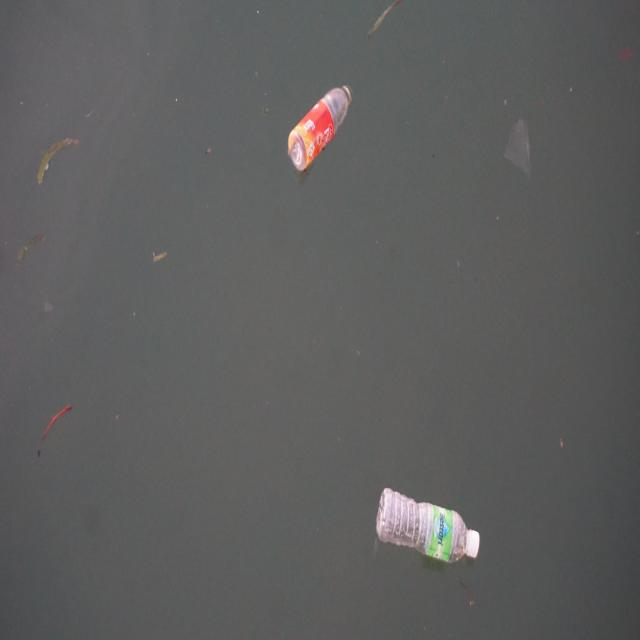Botol Plastik: (375, 481, 484, 579), (285, 75, 360, 183)
